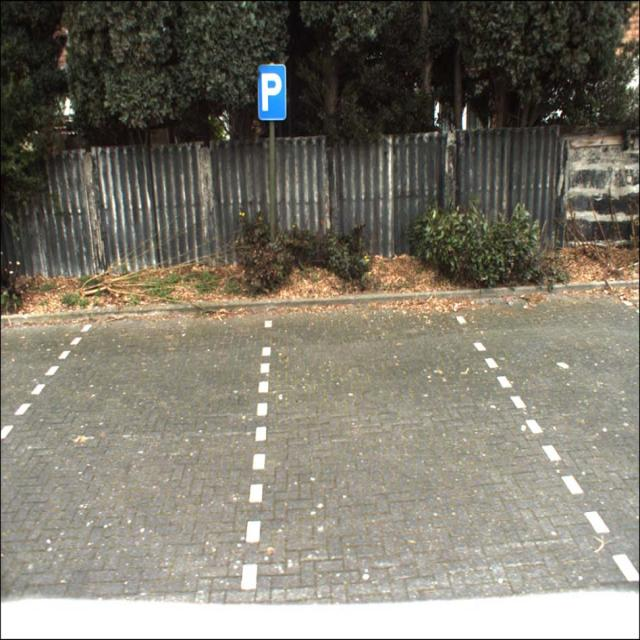park: (257, 64, 287, 120)
